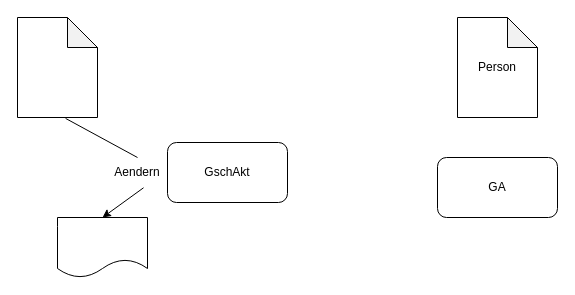
This 575x295 diagram has some shape labels left out. Each missing label, with the box of its shape:
Daten von Person: (56, 216, 148, 278)
Vertrag: (16, 16, 98, 118)
